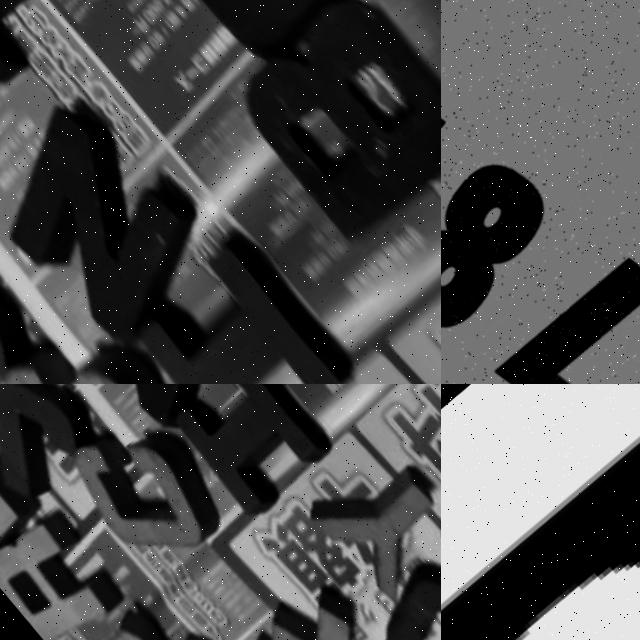7: (453, 202, 640, 384)
8: (441, 122, 610, 375)
9: (441, 28, 507, 293)
A: (100, 0, 394, 74)
B: (206, 0, 441, 265)
C: (63, 402, 252, 587), (0, 301, 229, 384)
D: (363, 552, 441, 640)
F: (223, 551, 418, 640)
H: (0, 384, 30, 434)
I: (118, 218, 395, 384), (168, 384, 343, 521)
J: (0, 384, 120, 508), (0, 226, 64, 384)
K: (398, 403, 441, 619)
L: (0, 423, 57, 573)
N: (0, 79, 245, 359), (48, 384, 250, 438)
Q: (441, 384, 640, 640)
R: (0, 508, 137, 640)
X: (77, 581, 287, 640)
Y: (304, 435, 441, 595)
